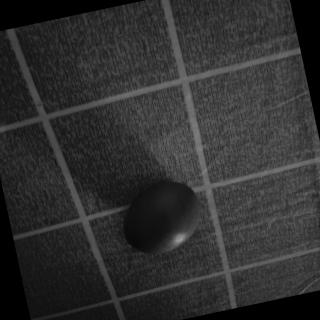Telur: (108, 169, 217, 266)
